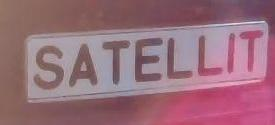1: (221, 27, 238, 77)
A: (64, 37, 105, 93)
E: (131, 34, 166, 87)
L: (163, 31, 197, 85), (192, 28, 226, 82)
S: (30, 40, 70, 98)
T: (99, 36, 133, 91), (236, 24, 268, 76)
